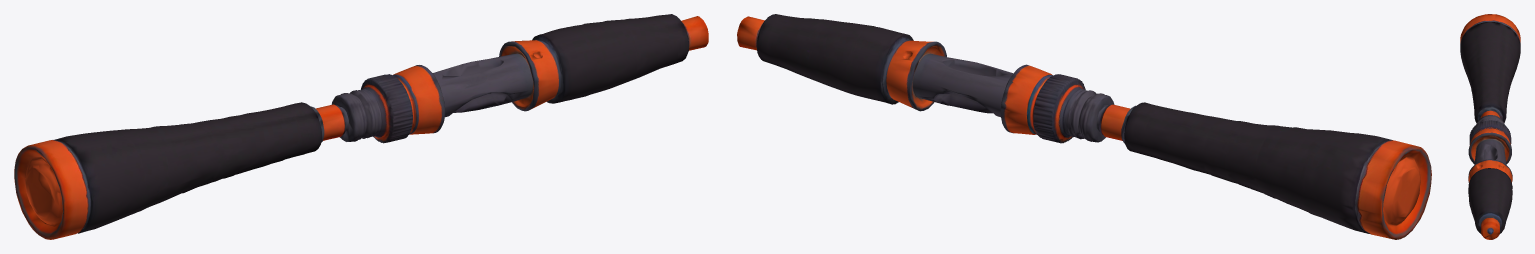
Rendered from gear-rod5.glb.
3 renders of one model, left to right at view 1: azimuth 30°, elevation 25°; view 2: azimuth 150°, elevation 25°; view 3: azimuth 270°, elevation 25°, orthographic. The views are drawn at different scales.
Parts seen in each view (by area): view 1: tripo_node_427d3866-c839-4dc0-9ee9-0c39451e108d; view 2: tripo_node_427d3866-c839-4dc0-9ee9-0c39451e108d; view 3: tripo_node_427d3866-c839-4dc0-9ee9-0c39451e108d.
Part boxes in pixels (<box>): tripo_node_427d3866-c839-4dc0-9ee9-0c39451e108d: <box>14,14,708,239</box>; tripo_node_427d3866-c839-4dc0-9ee9-0c39451e108d: <box>737,14,1431,239</box>; tripo_node_427d3866-c839-4dc0-9ee9-0c39451e108d: <box>1460,14,1520,239</box>.
Bounding box in the file's own units: 1 × 0.1243 × 0.1322.
Materials: 1 (1 with a texture image).
